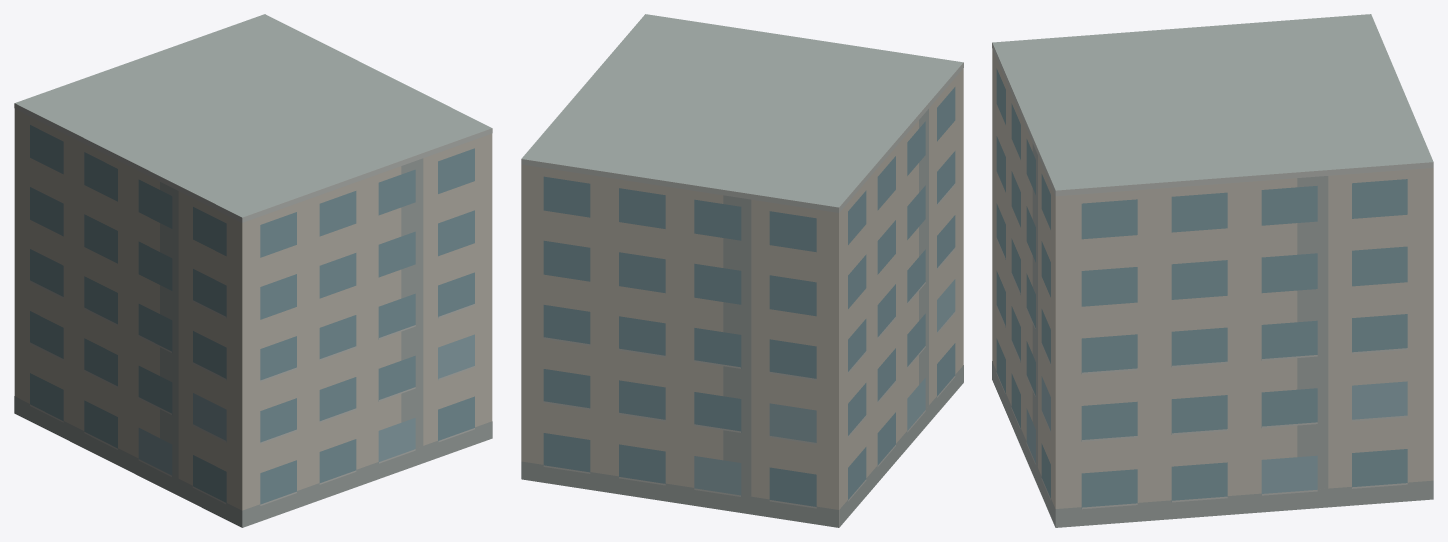
Rendered from survey-upis-32963607.glb.
3 renders of one model, left to right at view 1: azimuth 30°, elevation 25°; view 2: azimuth 150°, elevation 25°; view 3: azimuth 270°, elevation 25°, orthographic. The views are drawn at different scales.
Visible parts, largest first — view 1: survey-upis-32963607.tmp; view 2: survey-upis-32963607.tmp; view 3: survey-upis-32963607.tmp.
Part boxes in pixels (bbox=[...]): survey-upis-32963607.tmp: bbox=[14, 14, 492, 527]; survey-upis-32963607.tmp: bbox=[521, 14, 963, 527]; survey-upis-32963607.tmp: bbox=[992, 14, 1433, 527].
Bounding box in the file's own units: 16.01 × 14.25 × 16.91.
